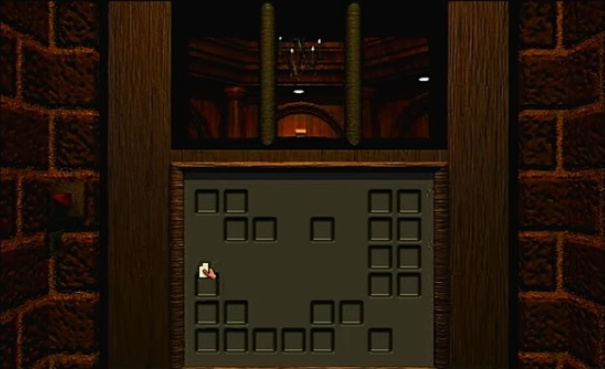Keep: (196, 259, 217, 282)
